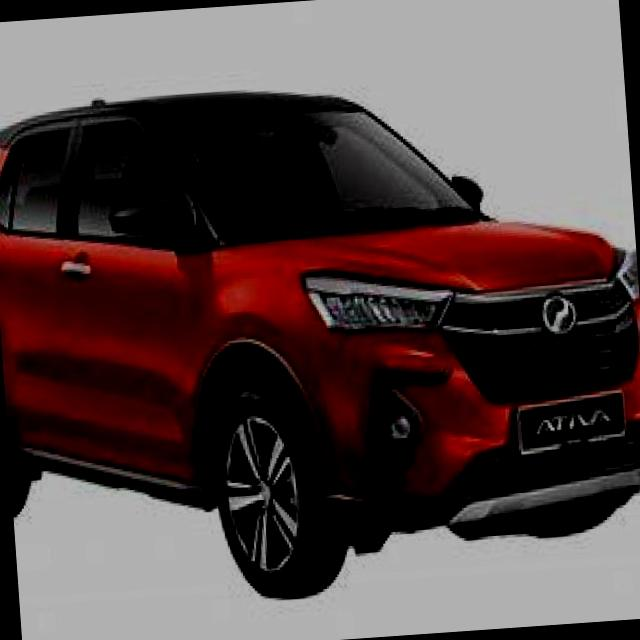PeroduaAtiva: (0, 59, 640, 617)
